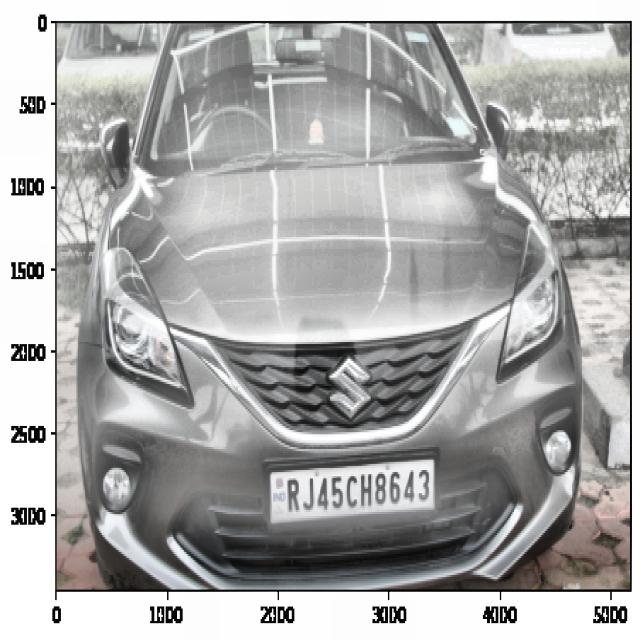license_plate: (276, 452, 432, 524)
